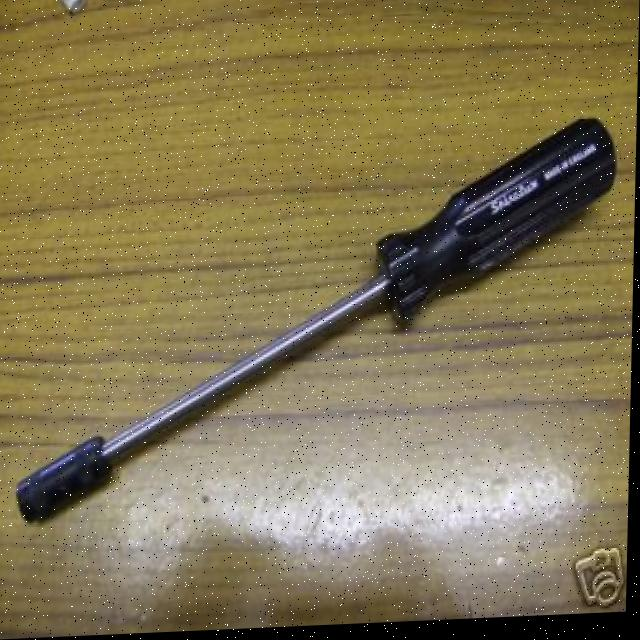Screwdriver: (19, 125, 616, 522)
